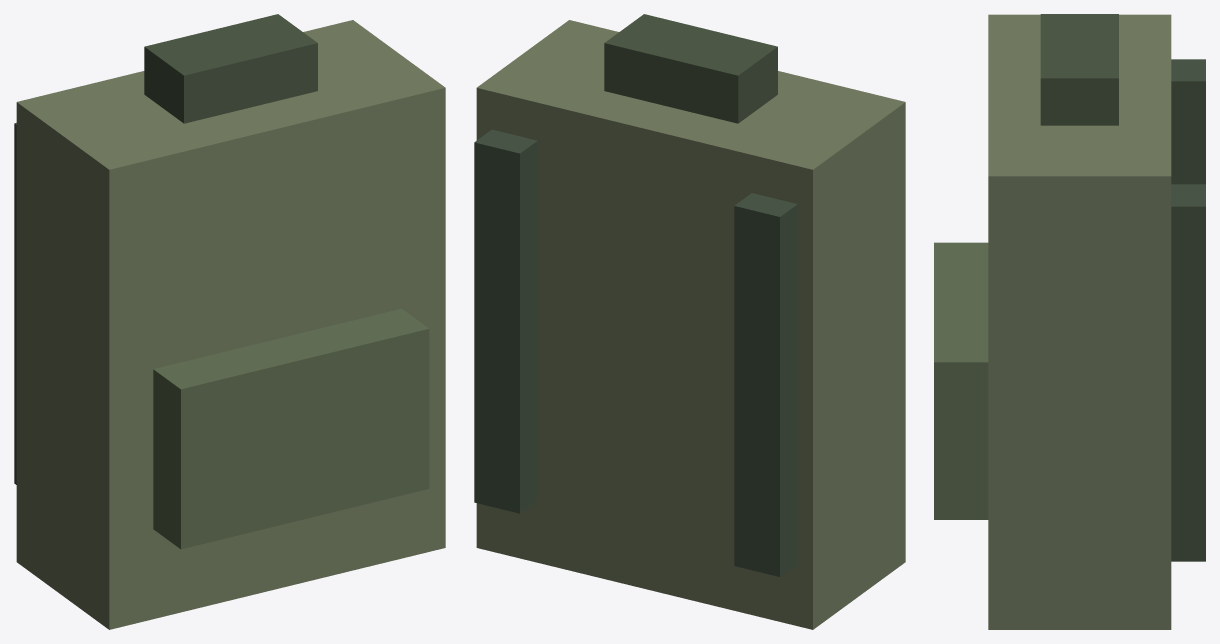
Rendered from backpack.gltf.
3 views of the same model, side by side, from view 1: azimuth 30°, elevation 25°; view 2: azimuth 150°, elevation 25°; view 3: azimuth 270°, elevation 25° (orthographic).
Size of the model in its own units: 0.88 by 1.27 by 0.625.
